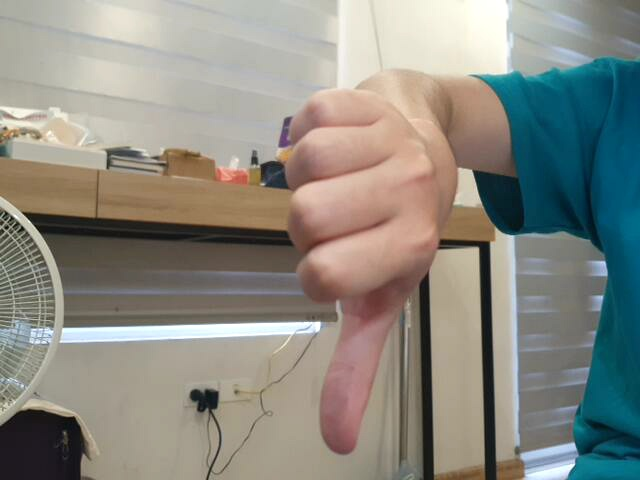ThumbsDown: (285, 85, 455, 460)
